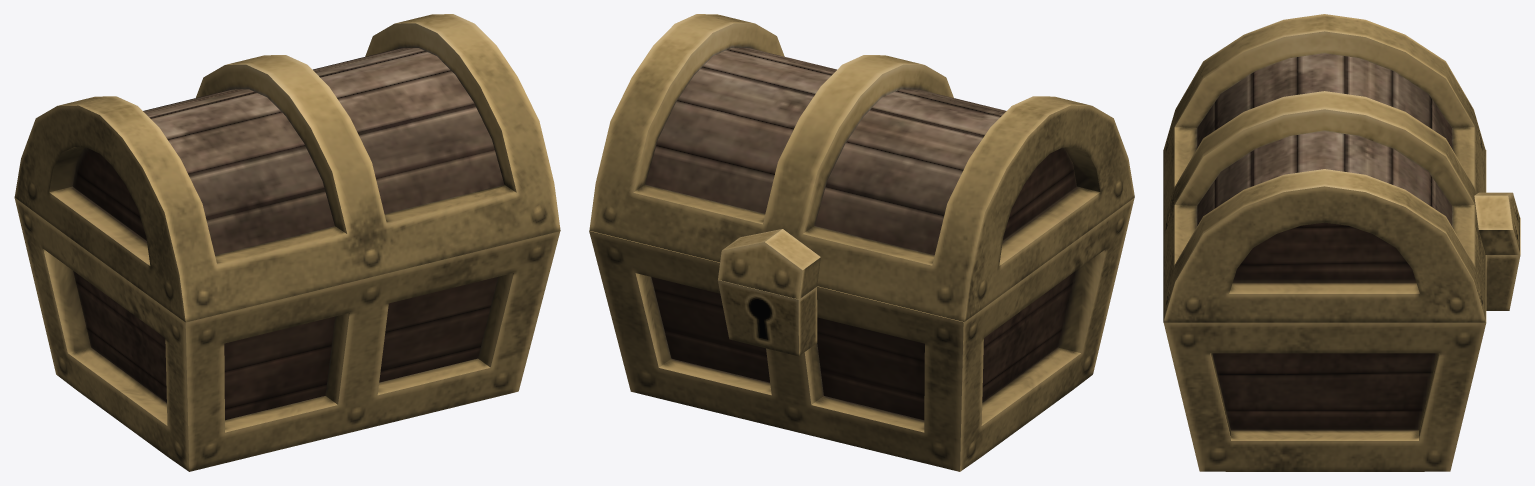
The model's file is TreasureBox.fbx.
3 views of the same model, side by side, from view 1: azimuth 30°, elevation 25°; view 2: azimuth 150°, elevation 25°; view 3: azimuth 270°, elevation 25° (orthographic). The views are drawn at different scales.
Parts seen in each view (by area): view 1: Lid, Box; view 2: Lid, Box; view 3: Lid, Box.
Boxes of the visible parts, bbox=[...] form: Lid: bbox=[14, 14, 560, 322]; Box: bbox=[14, 197, 560, 471]; Lid: bbox=[589, 14, 1134, 321]; Box: bbox=[589, 197, 1134, 471]; Lid: bbox=[1163, 14, 1519, 322]; Box: bbox=[1164, 150, 1520, 471].
Size of the model in its own units: 62.21 by 49.7 by 54.36.
